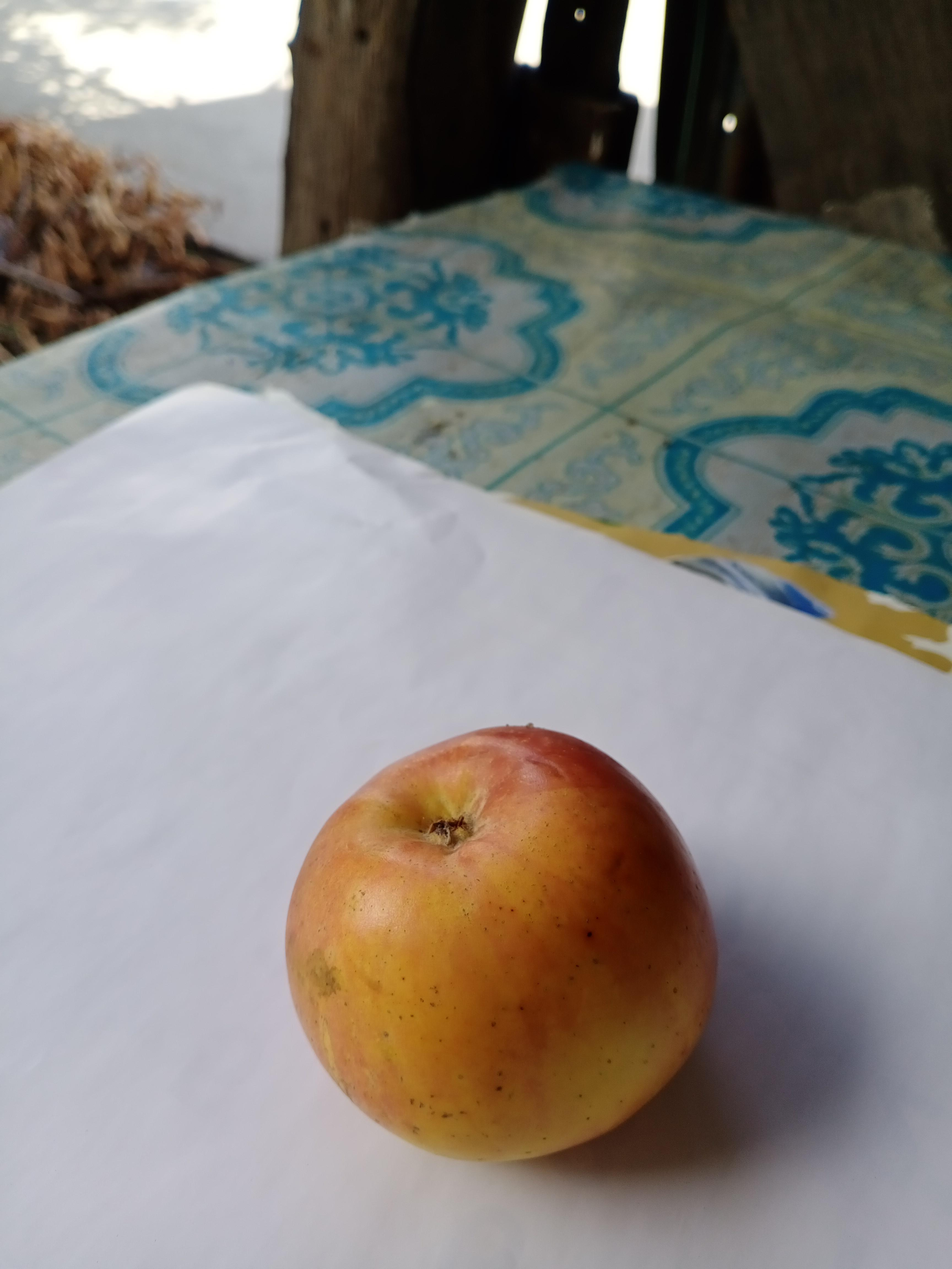Apple Ripe: (262, 705, 743, 1179)
